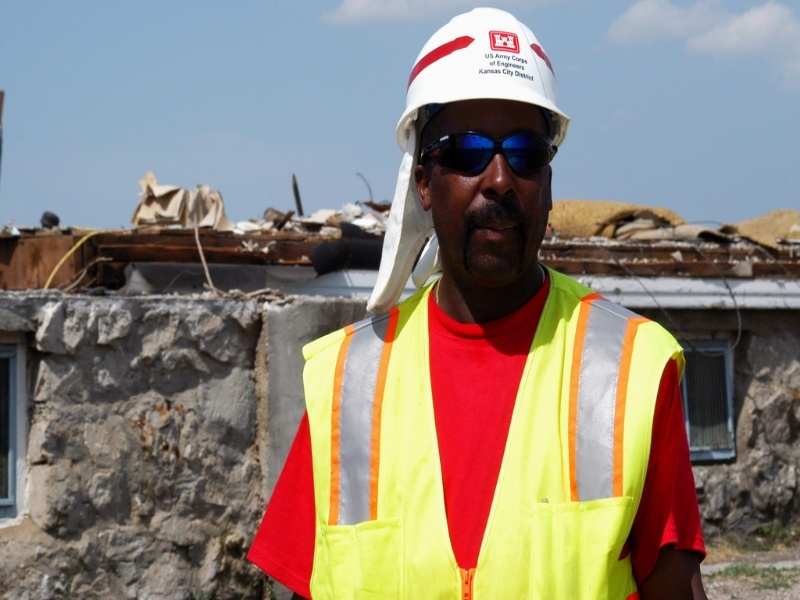Baret: (399, 7, 571, 155)
